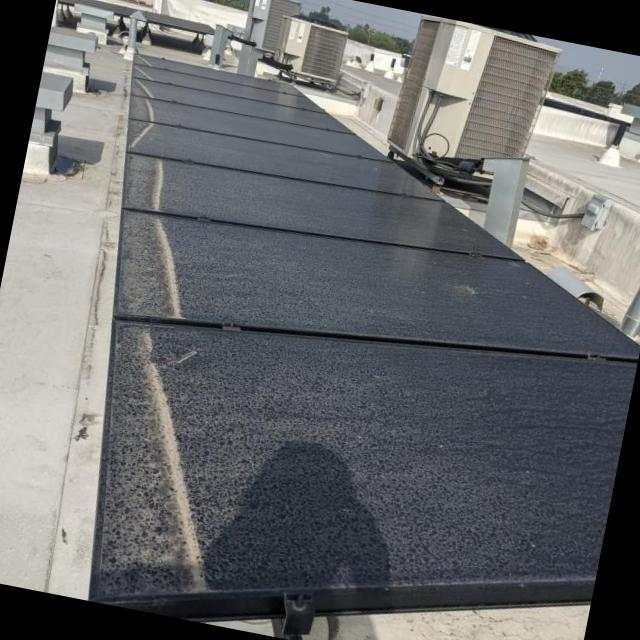faulty: (99, 319, 632, 598), (117, 212, 635, 358), (129, 153, 516, 257), (128, 43, 388, 156), (128, 115, 447, 203)
